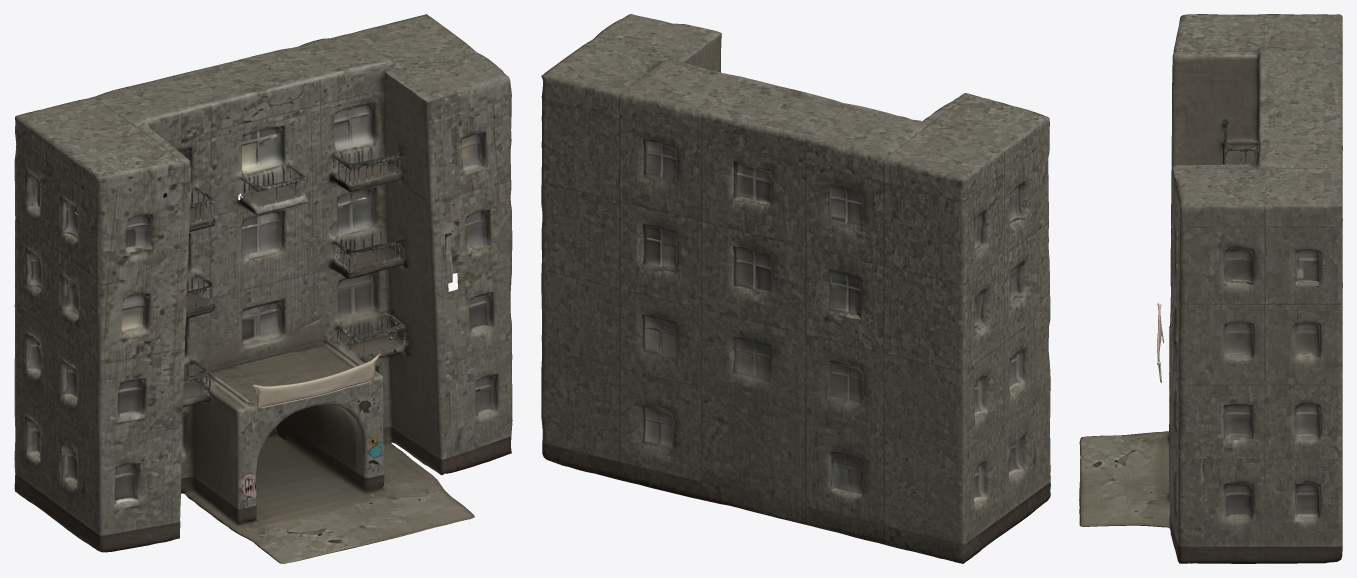
File: g67_house_arch.glb
3 renders of one model, left to right at view 1: azimuth 30°, elevation 25°; view 2: azimuth 150°, elevation 25°; view 3: azimuth 270°, elevation 25°, orthographic. The views are drawn at different scales.
Parts seen in each view (by area): view 1: tripo_node_37fedda3; view 2: tripo_node_37fedda3; view 3: tripo_node_37fedda3.
Part boxes in pixels (box(x1,y1,x2,y2)): tripo_node_37fedda3: box(14, 14, 512, 563); tripo_node_37fedda3: box(541, 14, 1050, 563); tripo_node_37fedda3: box(1079, 14, 1342, 563).
Bounding box in the file's own units: 97.87 × 87.42 × 56.74.
1 material, 1 textured.
